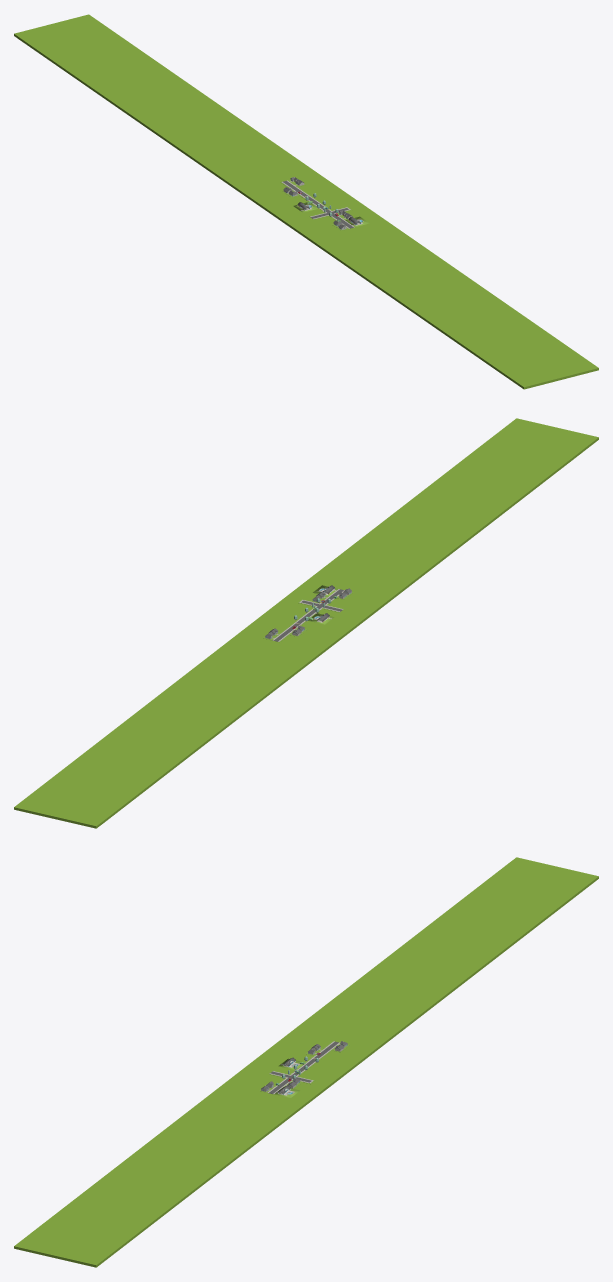
The model's file is 3DStage.gltf.
3 renders of one model, top to bottom at view 1: azimuth 30°, elevation 25°; view 2: azimuth 150°, elevation 25°; view 3: azimuth 330°, elevation 25°, orthographic. The views are drawn at different scales.
Visible parts, largest first — view 1: 立方体, 立方体.001, 立方体.002; view 2: 立方体, 立方体.001, 立方体.002; view 3: 立方体, 立方体.002, 立方体.001.
Part boxes in pixels (x1=…): 立方体: x1=37, y1=30, x2=598, y2=389; 立方体.001: x1=14, y1=14, x2=574, y2=371; 立方体.002: x1=18, y1=18, x2=579, y2=376; 立方体: x1=37, y1=418, x2=598, y2=808; 立方体.001: x1=14, y1=436, x2=573, y2=828; 立方体.002: x1=19, y1=432, x2=581, y2=824; 立方体: x1=14, y1=874, x2=576, y2=1267; 立方体.002: x1=32, y1=860, x2=592, y2=1251; 立方体.001: x1=37, y1=857, x2=598, y2=1249.
Bounding box in the file's own units: 95.32 × 8.64 × 842.
Materials: 100 (29 with a texture image).
